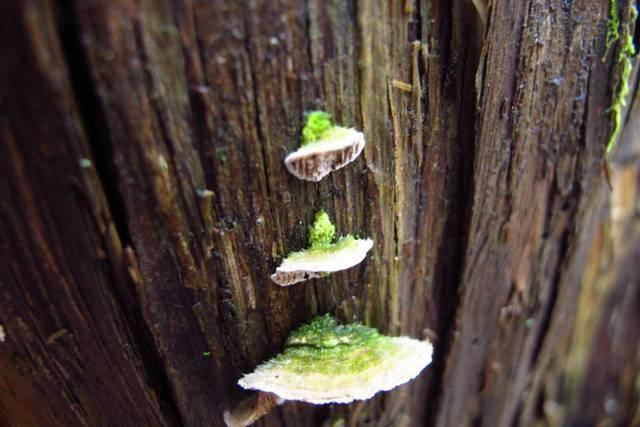Non-edible Mushroom: (219, 308, 451, 419), (269, 209, 374, 287), (282, 109, 366, 182)
